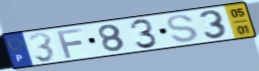3: (198, 9, 230, 40), (129, 18, 159, 50), (28, 31, 58, 63)
8: (97, 23, 127, 53)
F: (55, 27, 85, 60)
S: (165, 14, 200, 44)
